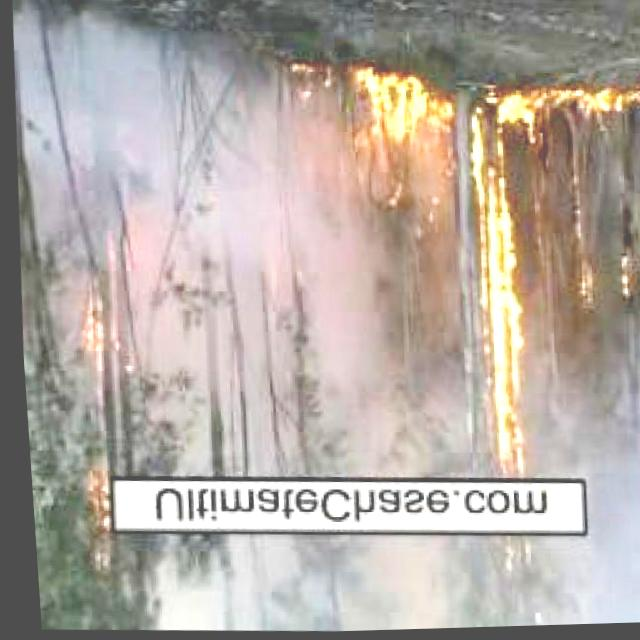Fire: (355, 76, 640, 161), (462, 155, 533, 488), (60, 457, 119, 566), (564, 177, 598, 308), (61, 295, 109, 382), (605, 255, 632, 303)
Smoke: (10, 8, 640, 640)
